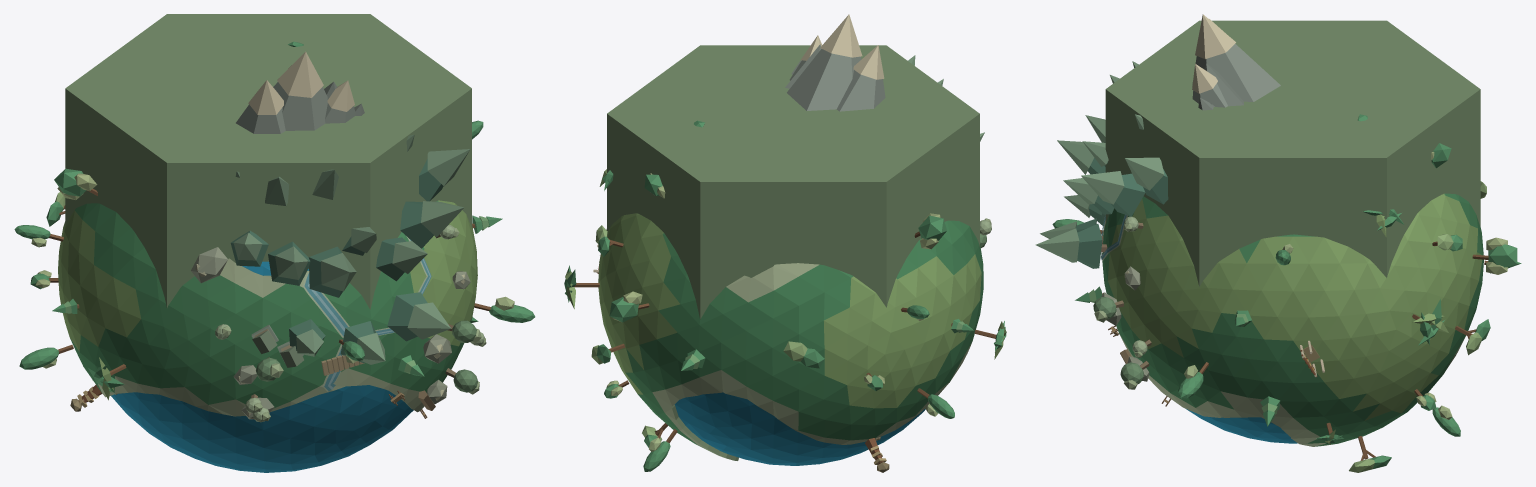
Rendered from earth.glb.
3 views of the same model, side by side, from view 1: azimuth 30°, elevation 25°; view 2: azimuth 150°, elevation 25°; view 3: azimuth 270°, elevation 25° (orthographic). The views are drawn at different scales.
Visible parts, largest first — view 1: Life_vessel_canoe_extra1 • modeled surfaces, Terrain • modeled surfaces, Structures • modeled surfaces; view 2: Life_vessel_canoe_extra1 • modeled surfaces, Terrain • modeled surfaces, Structures • modeled surfaces; view 3: Life_vessel_canoe_extra1 • modeled surfaces, Terrain • modeled surfaces, Structures • modeled surfaces.
Boxes of the visible parts, x1=… form: Life_vessel_canoe_extra1 • modeled surfaces: x1=65, y1=14, x2=471, y2=309; Terrain • modeled surfaces: x1=58, y1=200, x2=477, y2=472; Structures • modeled surfaces: x1=14, y1=41, x2=535, y2=422; Life_vessel_canoe_extra1 • modeled surfaces: x1=607, y1=45, x2=979, y2=319; Terrain • modeled surfaces: x1=598, y1=213, x2=983, y2=465; Structures • modeled surfaces: x1=564, y1=14, x2=1006, y2=472; Life_vessel_canoe_extra1 • modeled surfaces: x1=1105, y1=20, x2=1480, y2=286; Terrain • modeled surfaces: x1=1102, y1=193, x2=1483, y2=446; Structures • modeled surfaces: x1=1035, y1=14, x2=1521, y2=472.
Bounding box in the file's own units: 2.39 × 2.4 × 2.6.
